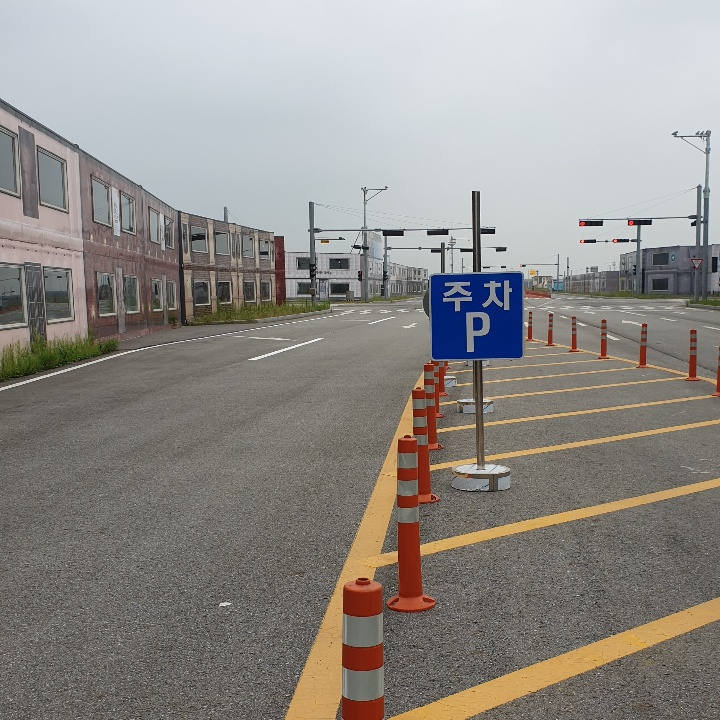parking: (460, 307, 493, 359)
